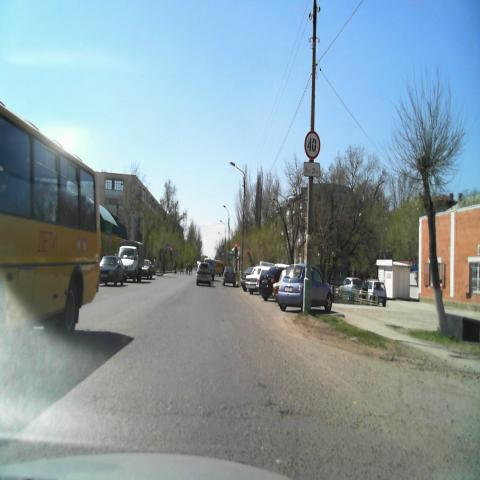8_5_4: (303, 160, 320, 178)
